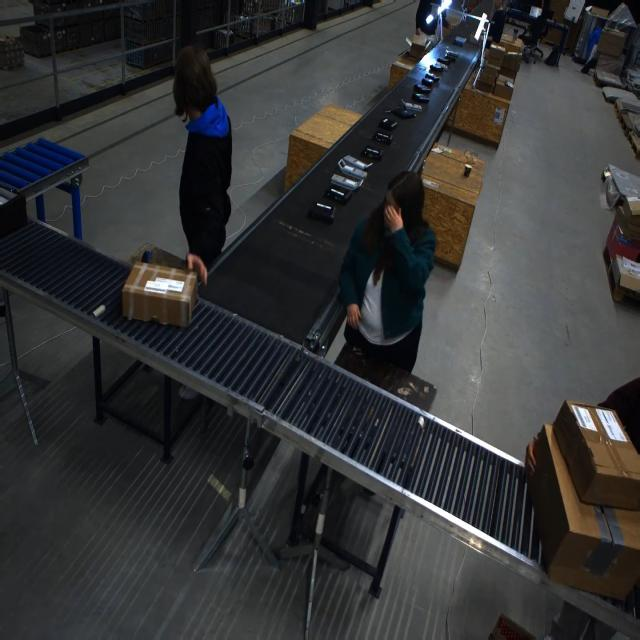box: (551, 401, 640, 507), (121, 260, 199, 327)
product: (324, 185, 354, 206), (330, 173, 361, 193), (307, 202, 335, 223), (341, 155, 370, 173), (360, 146, 381, 161), (372, 131, 393, 145), (390, 107, 414, 119), (377, 117, 397, 130), (401, 100, 421, 111), (412, 93, 430, 103), (413, 84, 431, 94), (444, 50, 459, 62), (420, 76, 436, 86), (428, 64, 443, 74), (436, 55, 451, 65)
